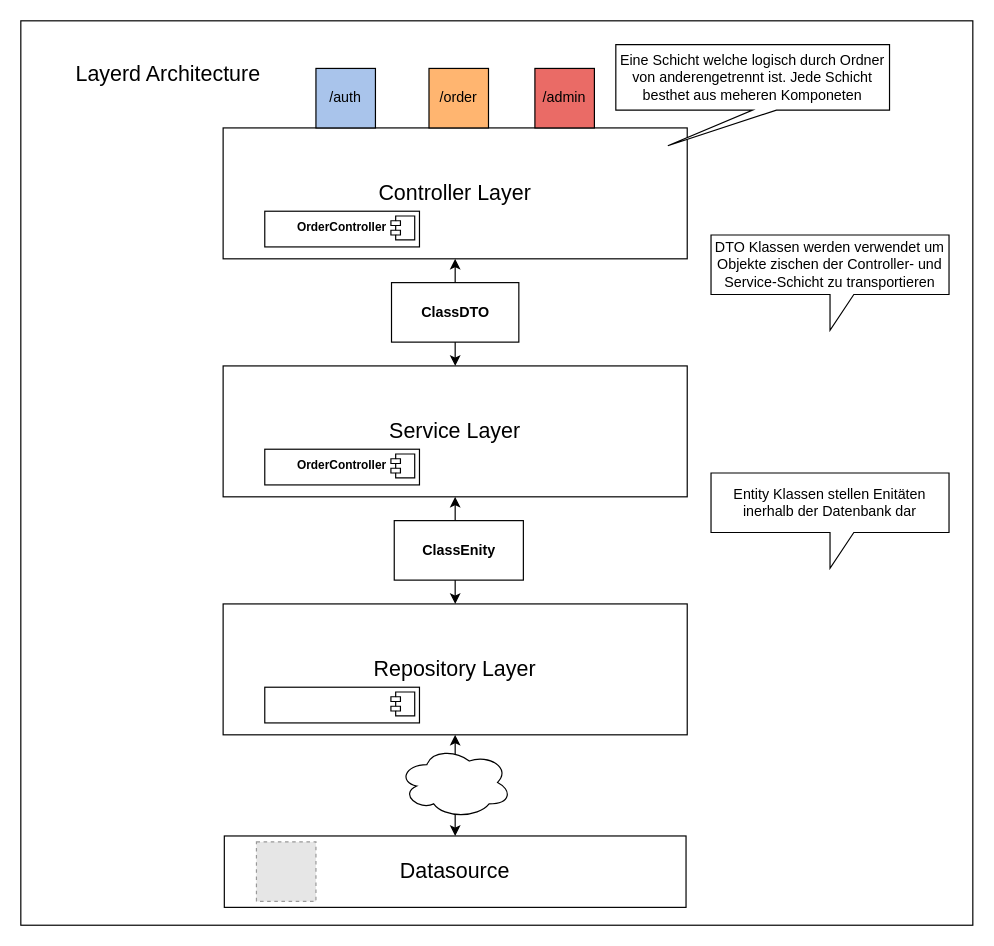
Image size: 994x946. Some labels were removed from this diagram. Grey dashed boxes stand in for pictures. Here are the shapes that lost their labels. From the top down, the centre of each, then its label:
[341,704]: OrderRepo
[454,782]: JPA
